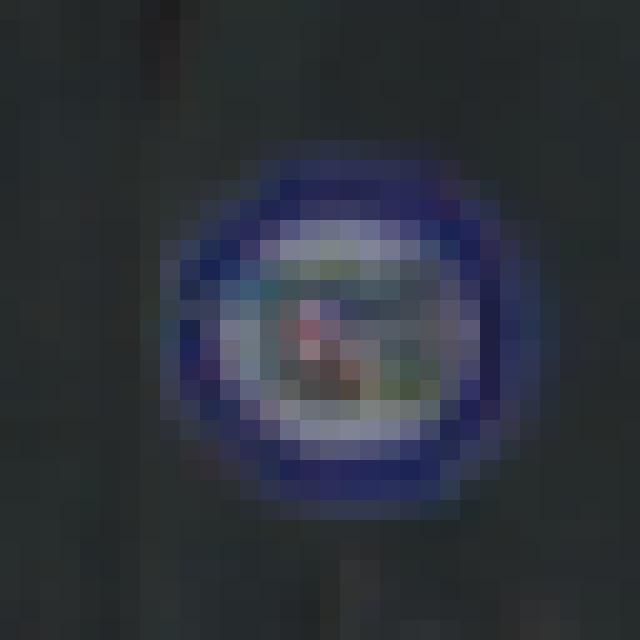SPEED LIMIT 120: (157, 161, 550, 524)
